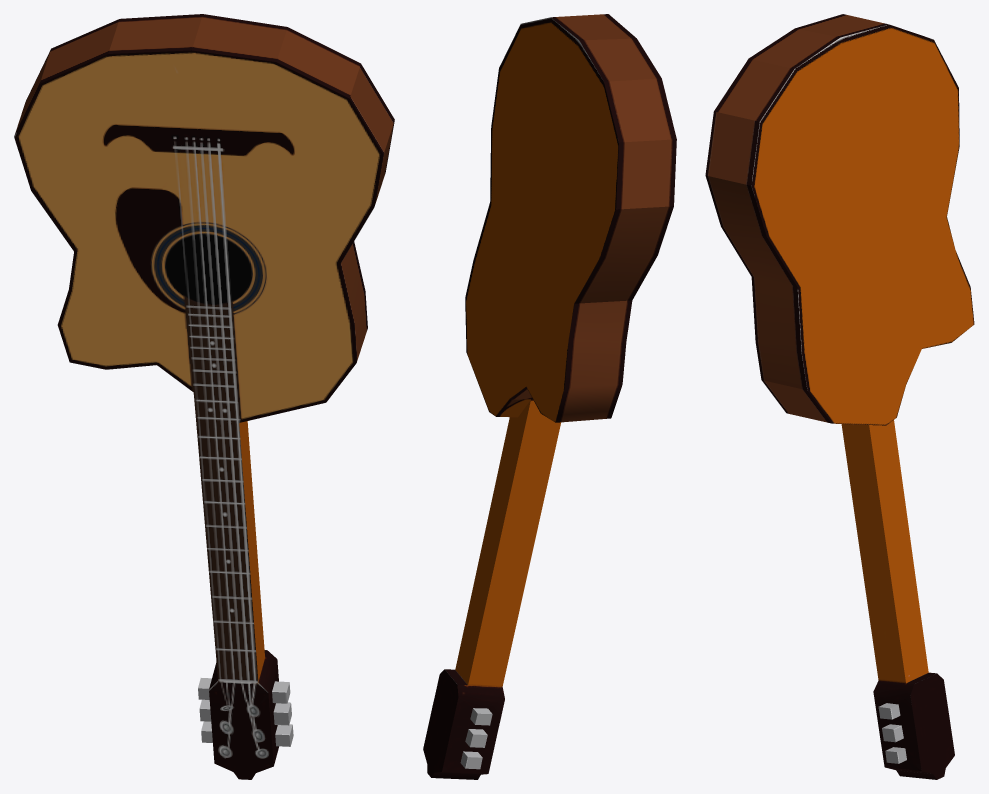
The model's file is guitarra3_000209.obj.
3 views of the same model, side by side, from view 1: azimuth 30°, elevation 25°; view 2: azimuth 150°, elevation 25°; view 3: azimuth 270°, elevation 25° (orthographic). The views are drawn at different scales.
Visible parts, largest first — view 1: Guitarra_2:pPlane4; view 2: Guitarra_2:pPlane4; view 3: Guitarra_2:pPlane4.
Part boxes in pixels (bbox=[...]): Guitarra_2:pPlane4: bbox=[14, 14, 394, 779]; Guitarra_2:pPlane4: bbox=[423, 14, 676, 779]; Guitarra_2:pPlane4: bbox=[705, 14, 974, 779].
Bounding box in the file's own units: 4.69 × 12.42 × 4.3.
